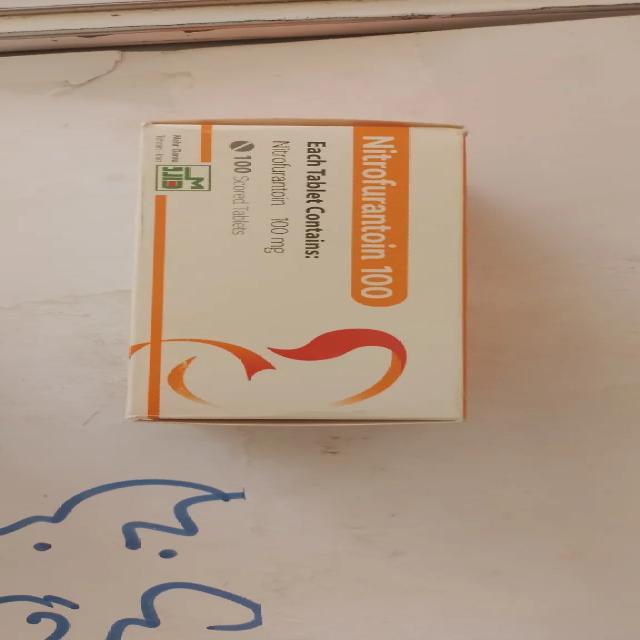drug-name: (359, 130, 397, 304)
